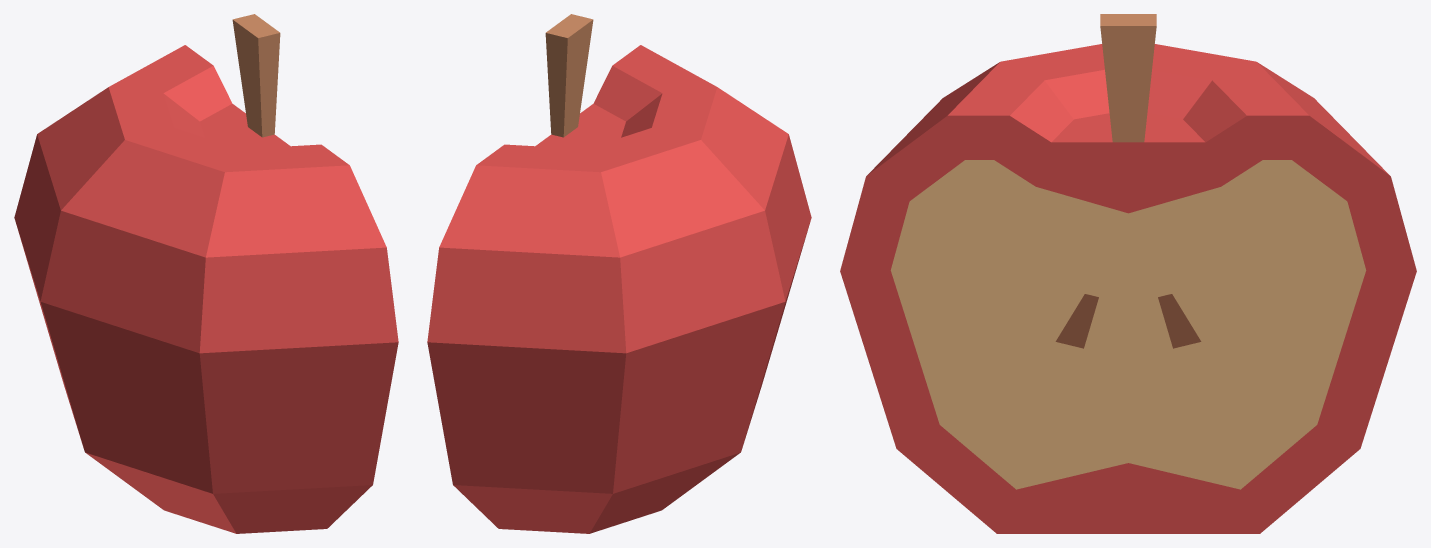
Rendered from appleHalf.fbx.
3 views of the same model, side by side, from view 1: azimuth 30°, elevation 25°; view 2: azimuth 150°, elevation 25°; view 3: azimuth 270°, elevation 25° (orthographic). The views are drawn at different scales.
Visible parts, largest first — view 1: appleHalf; view 2: appleHalf; view 3: appleHalf.
Part boxes in pixels (x1,y1,x2,y2): appleHalf: [14, 14, 398, 533]; appleHalf: [427, 14, 811, 533]; appleHalf: [840, 14, 1416, 533].
Bounding box in the file's own units: 0.9815 × 1.91 × 1.96.
